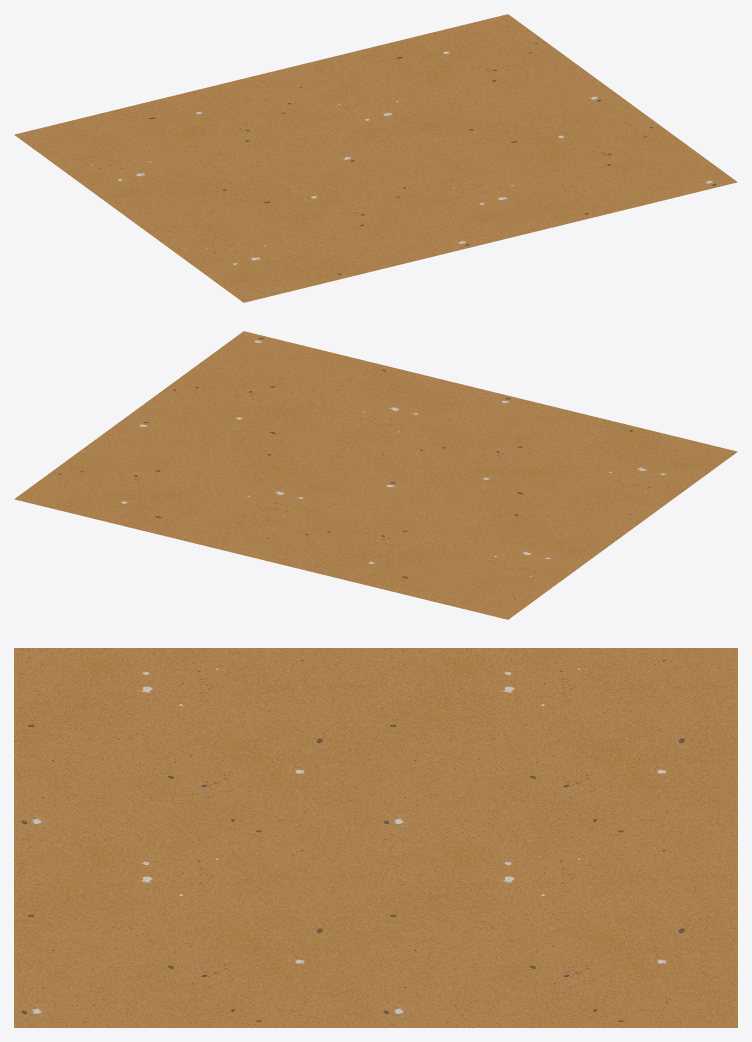
The model's file is ground.obj.
3 renders of one model, top to bottom at view 1: azimuth 30°, elevation 25°; view 2: azimuth 150°, elevation 25°; view 3: azimuth 270°, elevation 25°, orthographic. The views are drawn at different scales.
Parts seen in each view (by area): view 1: Plane001_Mesh; view 2: Plane001_Mesh; view 3: Plane001_Mesh.
Part boxes in pixels (bbox=[...]): Plane001_Mesh: bbox=[14, 14, 737, 302]; Plane001_Mesh: bbox=[14, 331, 737, 619]; Plane001_Mesh: bbox=[14, 648, 737, 1027].
Size of the model in its own units: 33.56 by 2e-06 by 27.03.
Materials: 1 (1 with a texture image).
